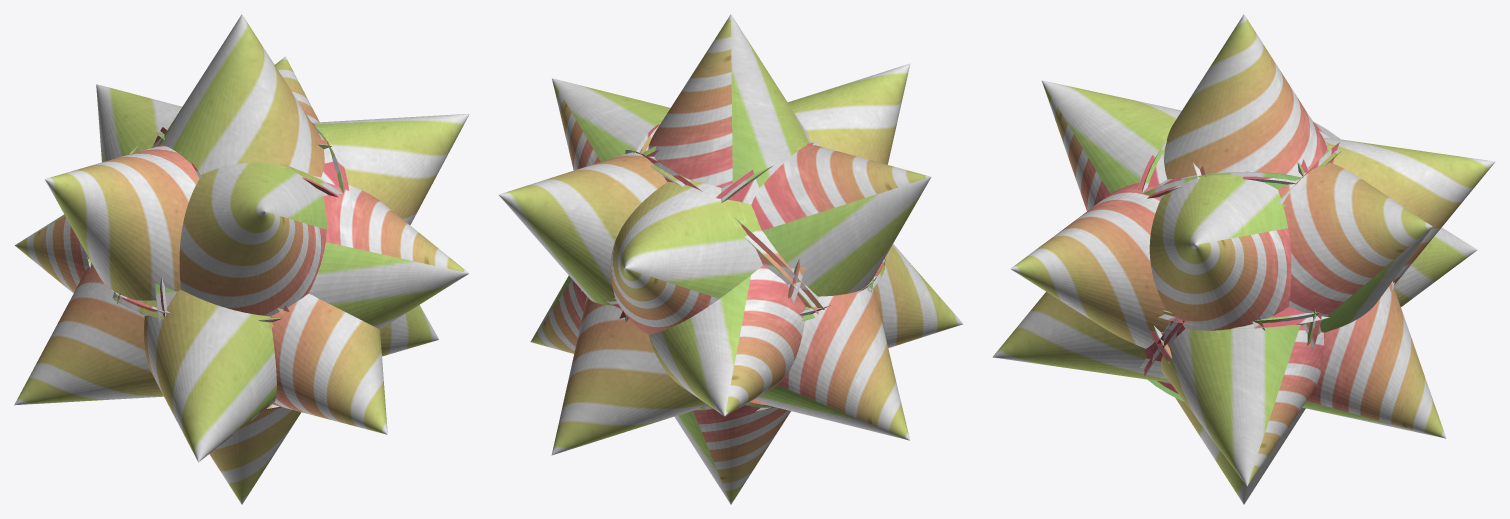
File: Player_12.fbx
3 views of the same model, side by side, from view 1: azimuth 30°, elevation 25°; view 2: azimuth 150°, elevation 25°; view 3: azimuth 270°, elevation 25° (orthographic).
Visible parts, largest first — view 1: Cylinder; view 2: Cylinder; view 3: Cylinder.
Part boxes in pixels (x1,y1,x2,y2): Cylinder: (14, 14, 469, 504); Cylinder: (498, 14, 963, 504); Cylinder: (992, 14, 1495, 504).
Size of the model in its own units: 304 by 351 by 326.
Materials: 1 (1 with a texture image).
